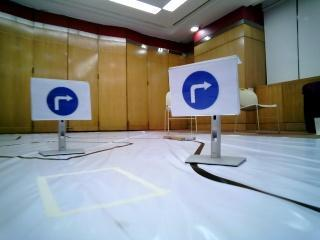right: (173, 69, 238, 113), (34, 82, 82, 117)
